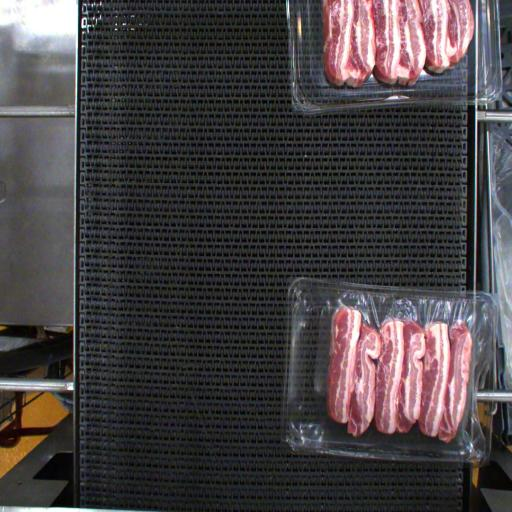unsealed: (311, 283, 490, 451)
